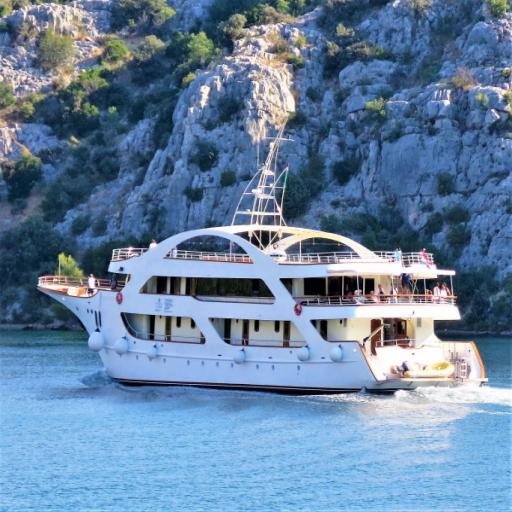cruises: (36, 205, 495, 403)
